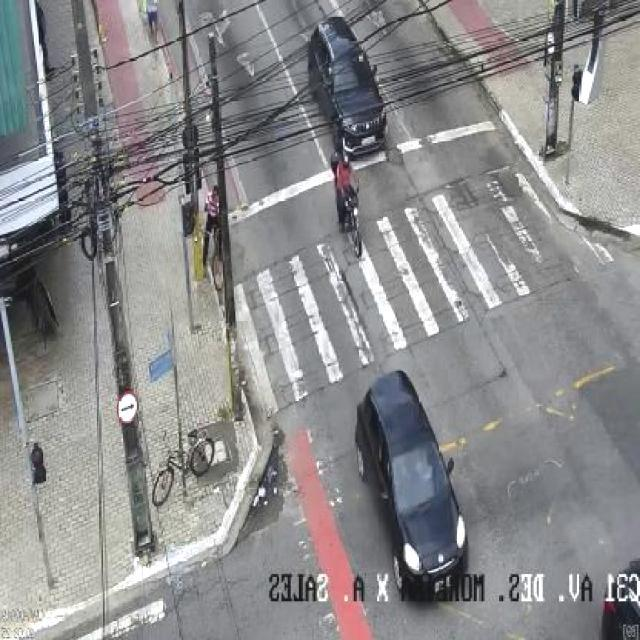Car: (355, 368, 471, 596), (306, 15, 389, 158)
Cycle: (150, 427, 218, 508), (338, 184, 366, 257)
